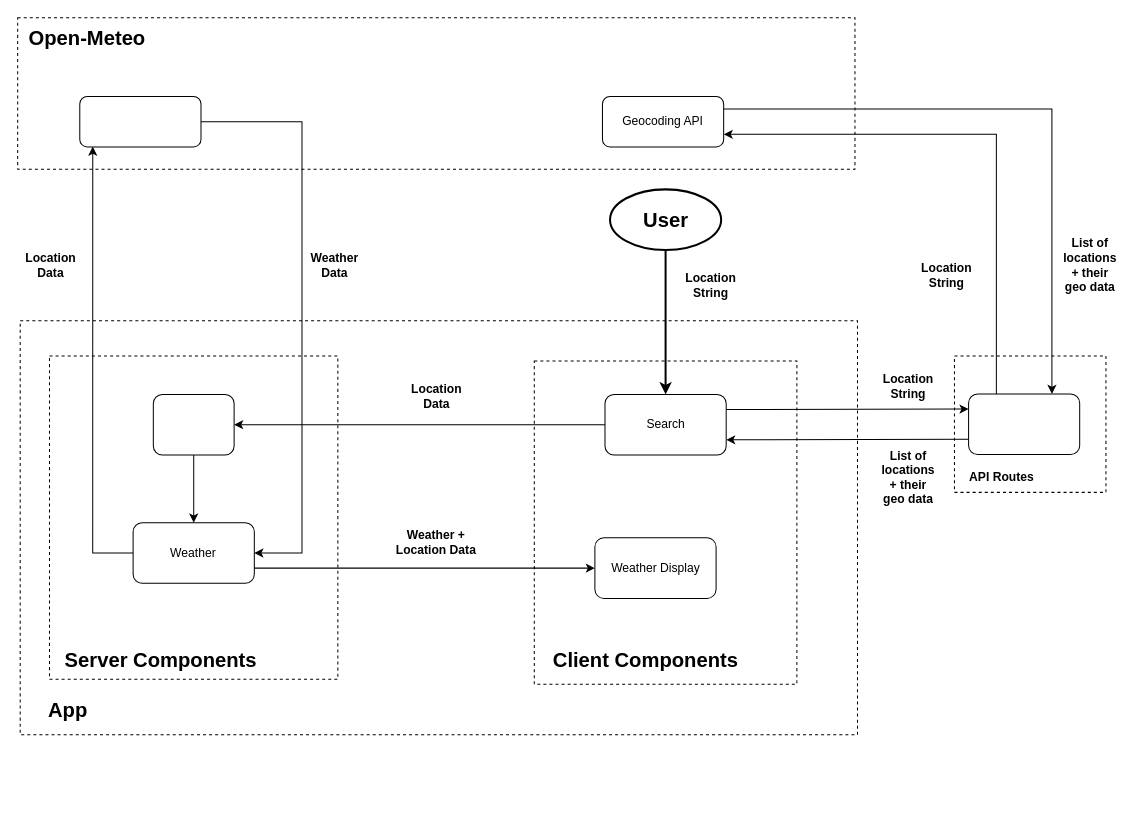
Image size: 1137x823. Some labels were removed from this diagram. Here are the shapes that lost their labels. From the top down, the centre of each, then its label:
the point at 140,121: Weather API
the point at 193,424: Page
the point at 1024,423: api/location
